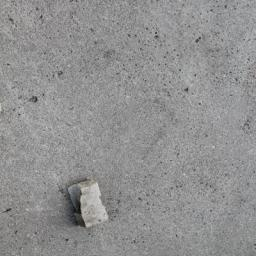FOD: (65, 177, 111, 230)
